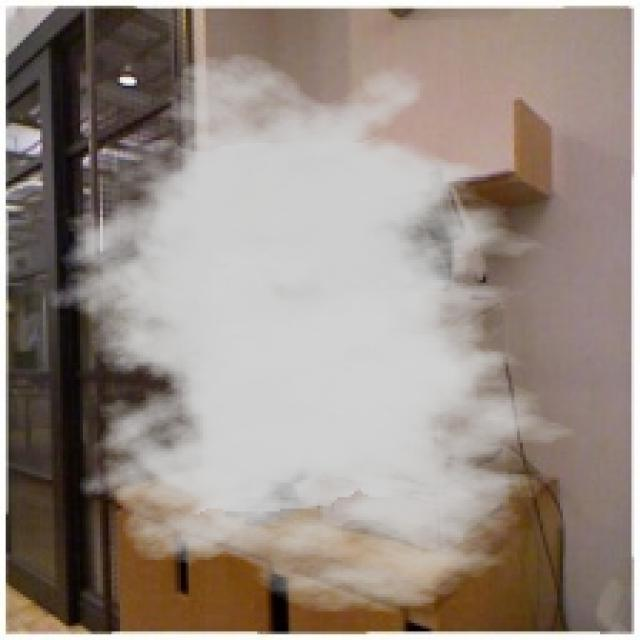smoke: (37, 51, 600, 614)
